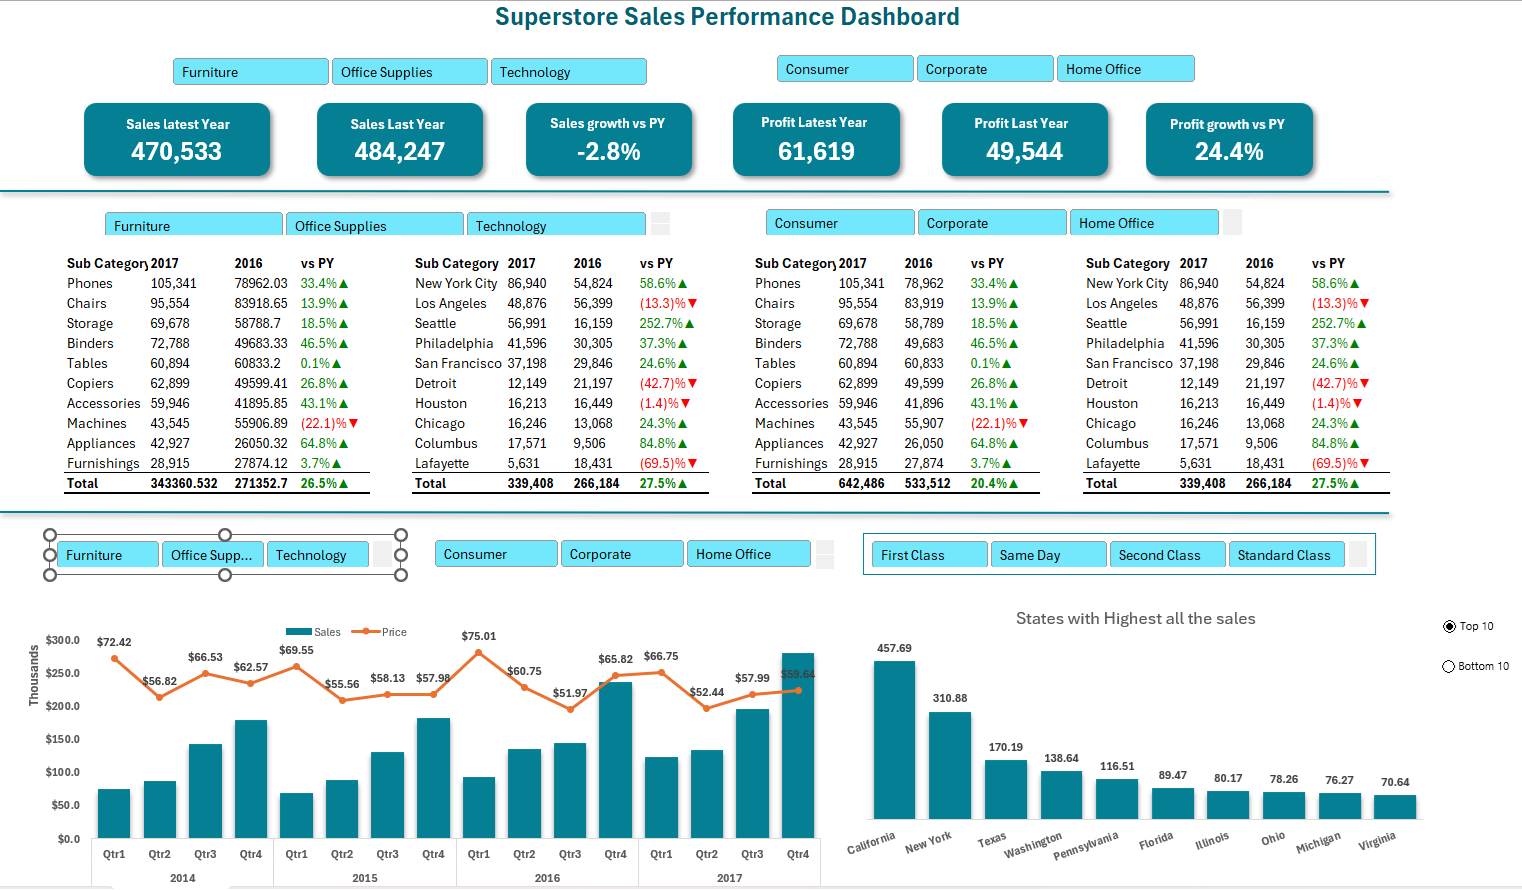

This screenshot's page, from the dashboard's own definition file:
{"tool":"tableau","page":{"name":"Dashboard 1","canvas":[1000,1000],"units":"permille","ordinal":0},"visuals":[{"type":"text","box":[5.3,9.4,989.3,84.5]},{"type":"image","param":"Image/shopping-cart.png","box":[12.7,11.1,42.7,67.8]},{"type":"worksheet","title":"Total Sales","mark":"Automatic","box":[5.3,93.9,212.7,77.9]},{"type":"worksheet","title":"Total Profit","mark":"Automatic","box":[218,93.9,212.7,77.9]},{"type":"worksheet","title":"Profit Margin","mark":"Automatic","box":[430.7,93.9,209.3,77.9]},{"type":"worksheet","title":"Total Orders","mark":"Automatic","box":[640,93.9,218.7,77.9]},{"type":"text","box":[858.7,93.9,136,77.9]},{"type":"image","param":"Image/shopping-bag.png","box":[654,110.3,21.3,37.6]},{"type":"image","param":"Image/profit-margin.png","box":[445.3,113.9,22,41.1]},{"type":"image","param":"Image/filter.png","box":[872,115,29.3,34]},{"type":"image","param":"Image/coin.png","box":[20.7,116.2,25.3,37.6]},{"type":"image","param":"Image/profit.png","box":[234.7,116.2,20,32.9]},{"type":"worksheet","title":"Mini Sales Trend","mark":"Line","rows":["Sales"],"cols":["Order Date"],"box":[5.3,171.8,212.7,42.7]},{"type":"worksheet","title":"Mini Sales Trend (2)","mark":"Line","rows":["Sales"],"cols":["Order Date"],"box":[218,171.8,212.7,42.7]},{"type":"worksheet","title":"Mini Sales Trend (3)","mark":"Line","rows":["Sales"],"cols":["Order Date"],"box":[430.7,171.8,209.3,42.7]},{"type":"worksheet","title":"Mini Sales Trend (4)","mark":"Line","rows":["Sales"],"cols":["Order Date"],"box":[640,171.8,218.7,42.7]},{"type":"filter","title":"Top 10 Products","param":"[federated.05smfwg1in4j4i0zxcioh12e72my].[yr:Order Date:ok]","box":[858.7,171.8,136,224.9]},{"type":"worksheet","title":"Sales by Category","mark":"Bar","rows":["Sales"],"cols":["Category"],"box":[5.3,214.5,212.7,360.2]},{"type":"worksheet","title":"Profit by Sub-Category","mark":"Automatic","rows":["Sub-Category"],"cols":["Profit"],"box":[218,214.5,359.3,360.2]},{"type":"worksheet","title":"Top 10 Products","mark":"Automatic","rows":["Product Name"],"cols":["Sales"],"box":[577.3,214.5,281.3,360.2]},{"type":"filter","title":"Top 10 Products","param":"[federated.05smfwg1in4j4i0zxcioh12e72my].[none:Category:nk]","box":[858.7,396.7,136,200.1]},{"type":"worksheet","title":"MONTHLY SALES TREND","mark":"Automatic","rows":["Sales"],"cols":["Order Date"],"box":[5.3,574.6,387.9,245.8]},{"type":"worksheet","title":"Discount vs Profit","mark":"Circle","rows":["Profit"],"cols":["Discount"],"box":[393.3,574.6,465.3,245.8]},{"type":"filter","title":"Top 10 Products","param":"[federated.05smfwg1in4j4i0zxcioh12e72my].[none:Region:nk]","box":[858.7,596.8,136,223.6]},{"type":"text","box":[5.3,820.4,270,132.6]},{"type":"text","box":[275.3,820.4,175.3,132.6]},{"type":"text","box":[450.7,820.4,170,132.6]},{"type":"text","box":[620.7,820.4,192.7,132.6]},{"type":"text","box":[813.3,820.4,181.4,132.6]},{"type":"image","param":"Image/insight.png","box":[18,825.1,24.7,36.4]},{"type":"image","param":"Image/check.png","box":[45.3,855.6,10.7,12.9]},{"type":"image","param":"Image/increase.png","box":[285.3,855.6,36.7,50.5]},{"type":"image","param":"Image/decrease.png","box":[629.3,855.6,31.3,48.1]},{"type":"image","param":"Image/calendar (1).png","box":[821.3,855.6,31.3,47]},{"type":"image","param":"Image/trophy.png","box":[459.3,858,32,48.1]},{"type":"image","param":"Image/check.png","box":[46,877.9,10,12.9]},{"type":"image","param":"Image/check.png","box":[46,902.6,7.3,16.4]},{"type":"image","param":"Image/check.png","box":[46,927.2,7.3,14.1]},{"type":"text","box":[5.3,953.1,328,37.6]},{"type":"text","box":[333.3,953.1,333.3,37.6]},{"type":"text","box":[666.7,953.1,328,37.6]}]}

Visuals, with their boxes on the dashboard's canvas, which has no fixed pixel size, in thousandths of its width and height (x1, y1, x2, y2). These are canvas units, not pixel positions in the 1522x890 screenshot, which may show the page scaled, cropped or inside an application window:
text: (5, 9, 995, 94)
image: (13, 11, 55, 79)
"Total Sales" worksheet: (5, 94, 218, 172)
"Total Profit" worksheet: (218, 94, 431, 172)
"Profit Margin" worksheet: (431, 94, 640, 172)
"Total Orders" worksheet: (640, 94, 859, 172)
text: (859, 94, 995, 172)
image: (654, 110, 675, 148)
image: (445, 114, 467, 155)
image: (872, 115, 901, 149)
image: (21, 116, 46, 154)
image: (235, 116, 255, 149)
"Mini Sales Trend" worksheet (Line marks): (5, 172, 218, 214)
"Mini Sales Trend (2)" worksheet (Line marks): (218, 172, 431, 214)
"Mini Sales Trend (3)" worksheet (Line marks): (431, 172, 640, 214)
"Mini Sales Trend (4)" worksheet (Line marks): (640, 172, 859, 214)
"Top 10 Products" filter: (859, 172, 995, 397)
"Sales by Category" worksheet (Bar marks): (5, 214, 218, 575)
"Profit by Sub-Category" worksheet: (218, 214, 577, 575)
"Top 10 Products" worksheet: (577, 214, 859, 575)
"Top 10 Products" filter: (859, 397, 995, 597)
"MONTHLY SALES TREND" worksheet: (5, 575, 393, 820)
"Discount vs Profit" worksheet (Circle marks): (393, 575, 859, 820)
"Top 10 Products" filter: (859, 597, 995, 820)
text: (5, 820, 275, 953)
text: (275, 820, 451, 953)
text: (451, 820, 621, 953)
text: (621, 820, 813, 953)
text: (813, 820, 995, 953)
image: (18, 825, 43, 862)
image: (45, 856, 56, 868)
image: (285, 856, 322, 906)
image: (629, 856, 661, 904)
image: (821, 856, 853, 903)
image: (459, 858, 491, 906)
image: (46, 878, 56, 891)
image: (46, 903, 53, 919)
image: (46, 927, 53, 941)
text: (5, 953, 333, 991)
text: (333, 953, 667, 991)
text: (667, 953, 995, 991)
